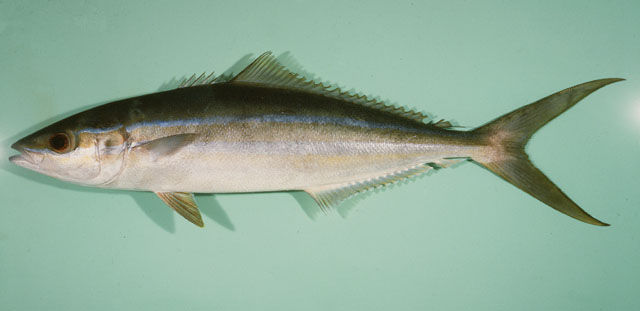fish: (10, 50, 627, 229)
